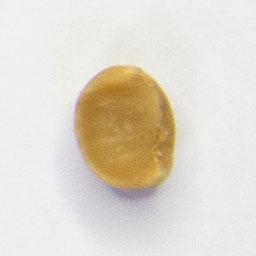defect: (73, 62, 179, 193)
